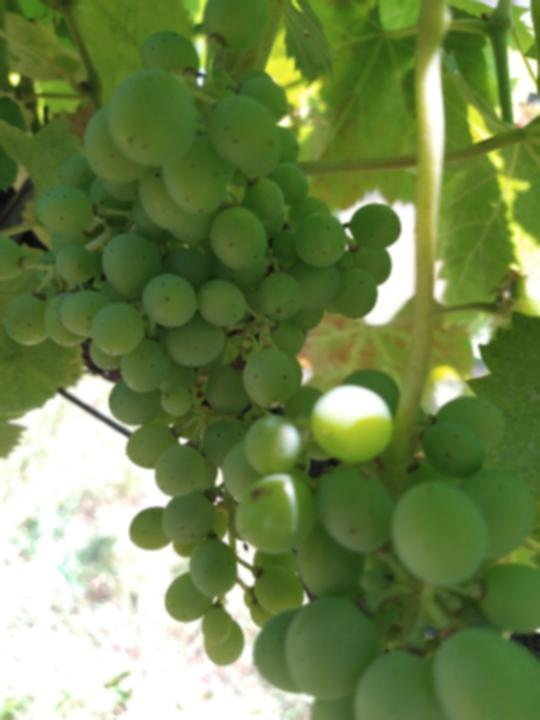grape: (2, 29, 403, 669)
